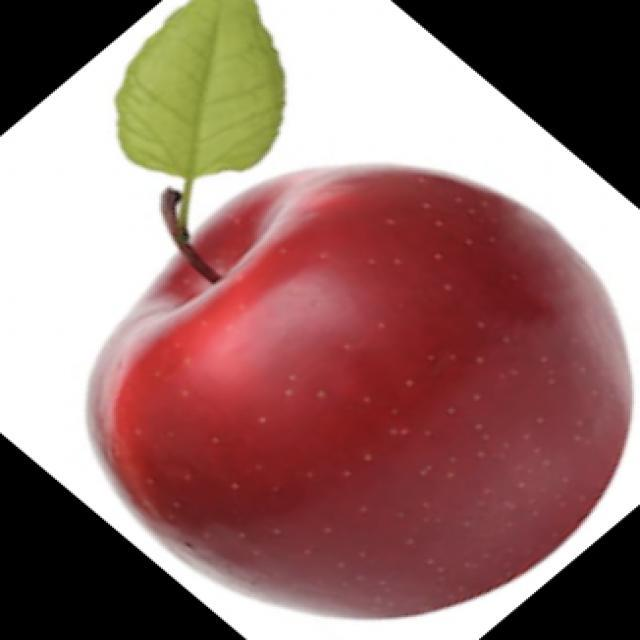Fresh Apple: (86, 161, 640, 618)
